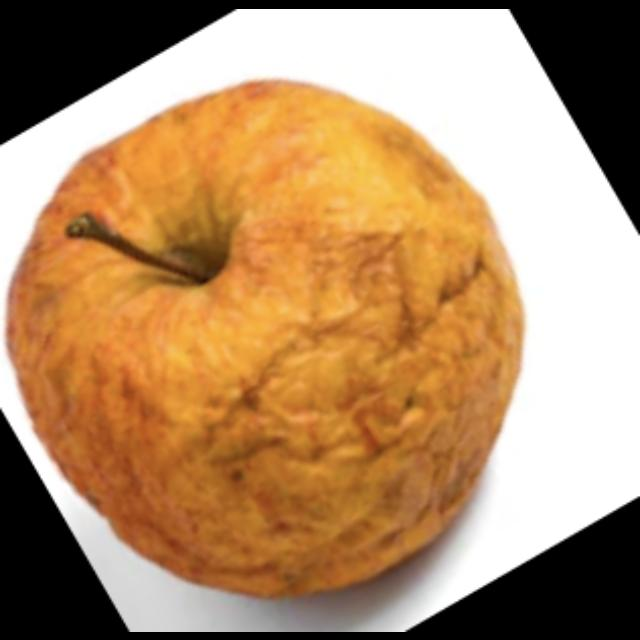Apel Tidak Segar: (11, 71, 524, 596)
